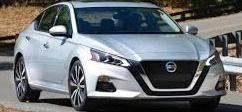Cars: (15, 5, 226, 111)
